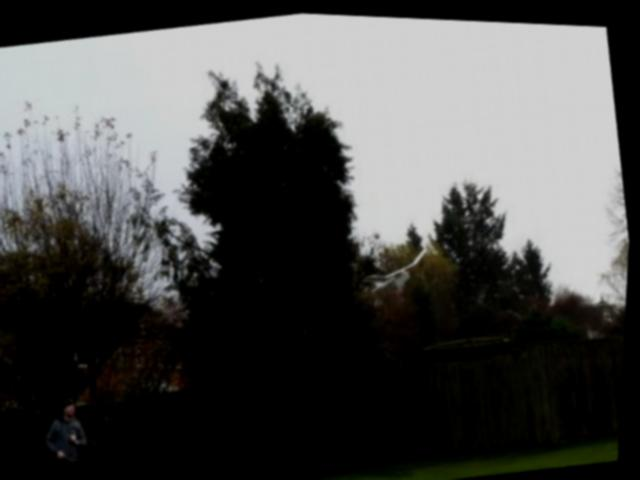uav: (360, 233, 443, 306)
